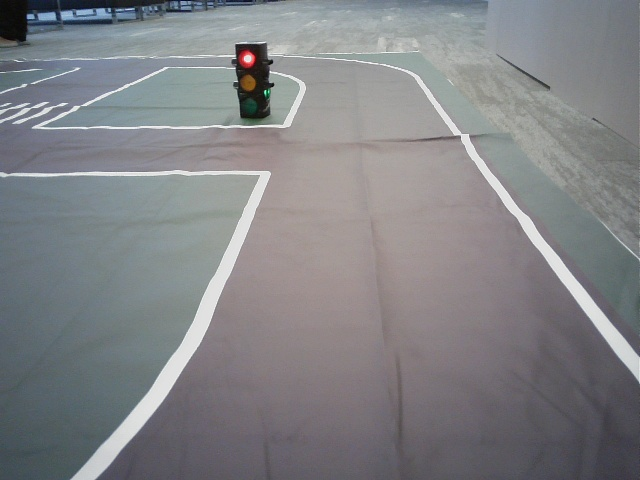red: (235, 48, 260, 114)
